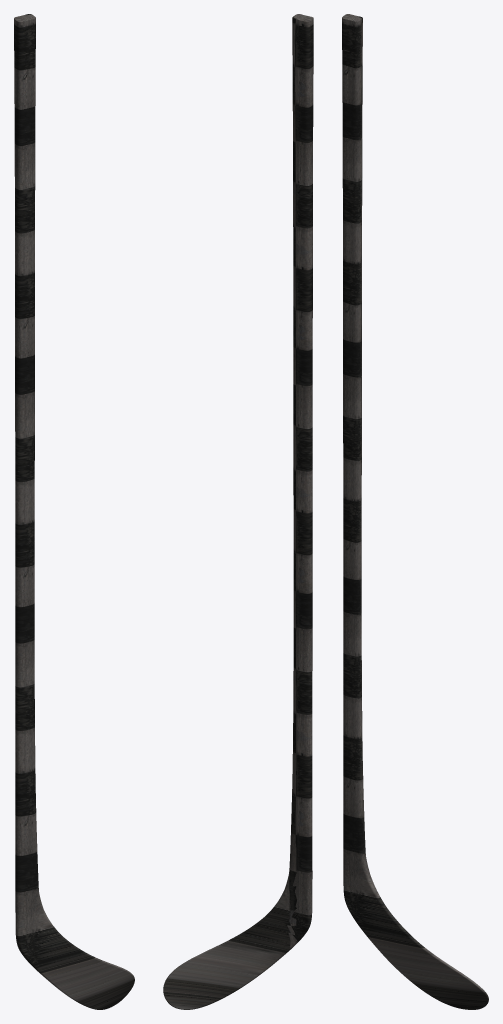
The model's file is P99-SBO.glb.
3 renders of one model, left to right at view 1: azimuth 30°, elevation 25°; view 2: azimuth 150°, elevation 25°; view 3: azimuth 330°, elevation 25°, orthographic. The views are drawn at different scales.
Visible parts, largest first — view 1: geometry_0; view 2: geometry_0; view 3: geometry_0.
Part boxes in pixels (left/top/right/bottom): geometry_0: left=14, top=14, right=134, bottom=1009; geometry_0: left=163, top=14, right=313, bottom=1009; geometry_0: left=342, top=14, right=488, bottom=1009.
Size of the model in its own units: 226 by 1650 by 67.61.
1 material, 1 textured.
